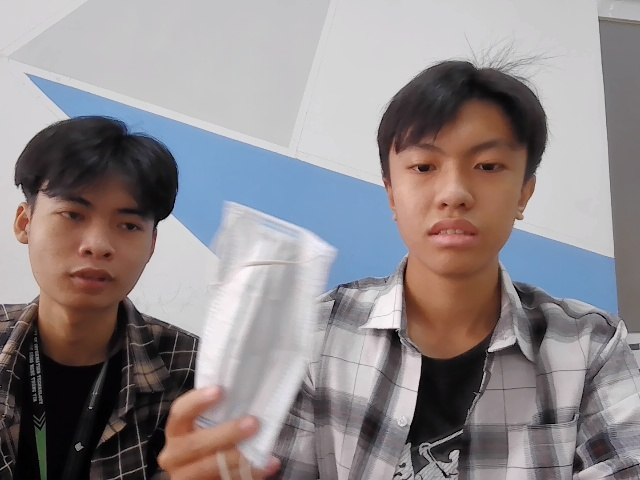human: (374, 62, 546, 275), (12, 117, 184, 311)
mask: (199, 199, 335, 461)
